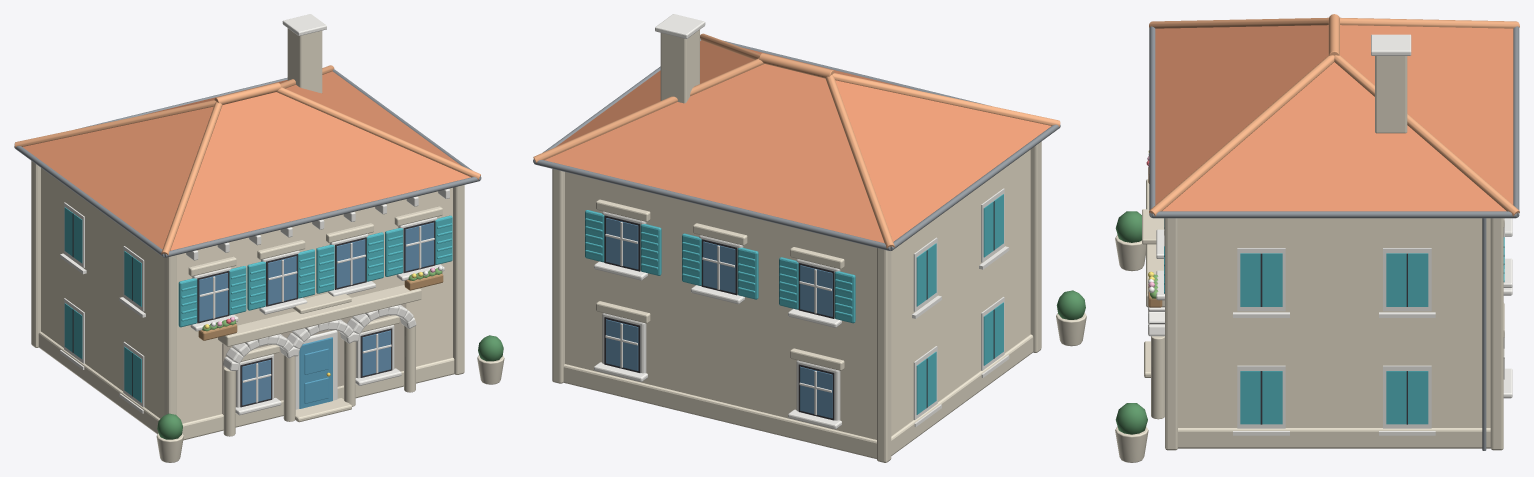
Rendered from house_c.fbx.
3 views of the same model, side by side, from view 1: azimuth 30°, elevation 25°; view 2: azimuth 150°, elevation 25°; view 3: azimuth 270°, elevation 25° (orthographic). The views are drawn at different scales.
Parts seen in each view (by area): view 1: Visual; view 2: Visual; view 3: Visual.
Boxes of the visible parts, bbox=[...] form: Visual: bbox=[14, 14, 504, 462]; Visual: bbox=[533, 14, 1086, 462]; Visual: bbox=[1115, 14, 1519, 462].
Size of what is drawn, in the model's own units: 1203 by 1006 by 999.
